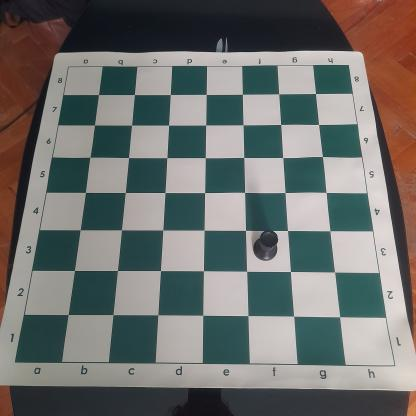black-rook: (250, 228, 284, 264)
